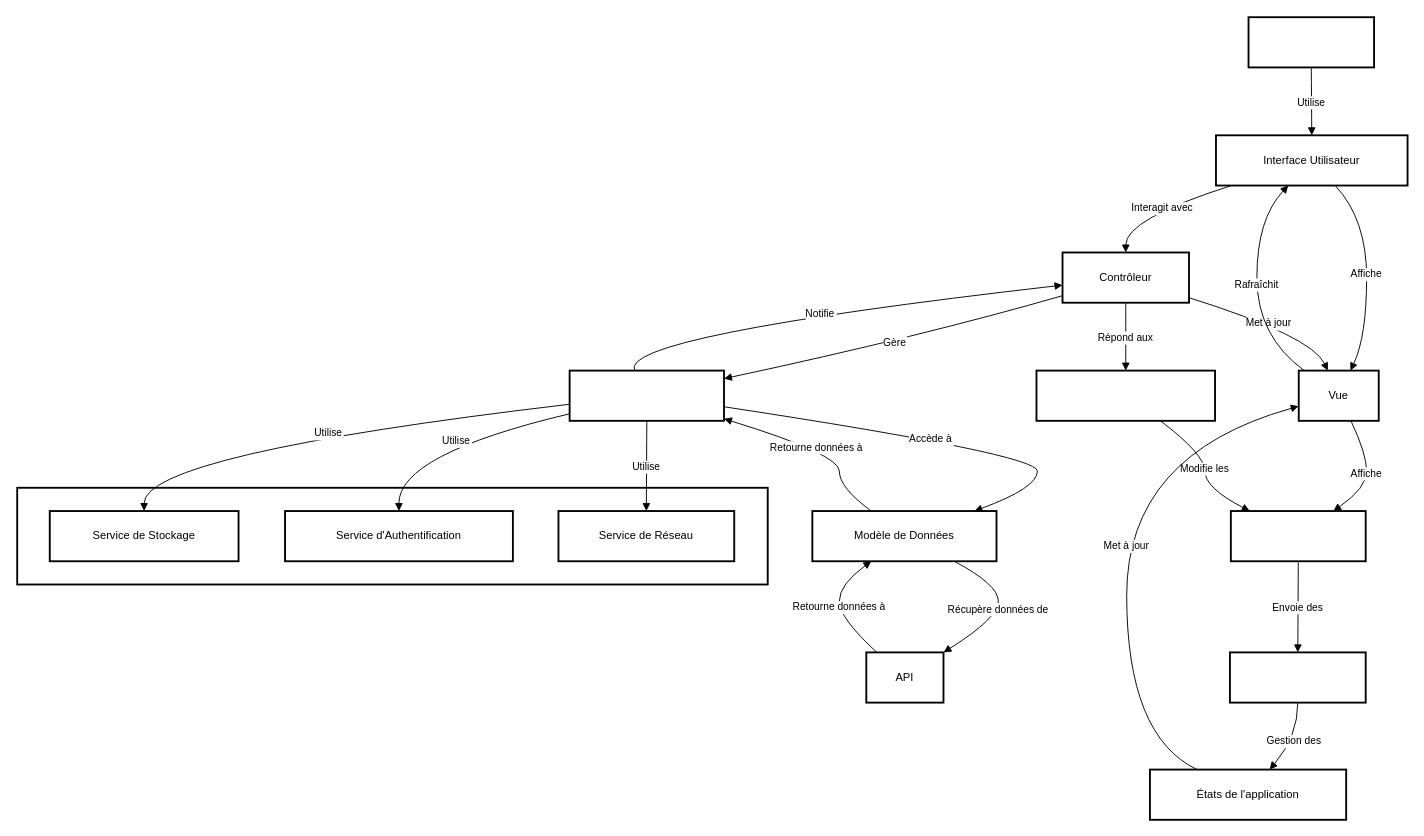
This 1424x836 diagram has some shape labels left out. The shapes that lost their labels are listed below. From the top down, each one's centre as x and y in pixels, then its label:
pixel 1311 42: Utilisateur
pixel 646 395: Logique Métier
pixel 1125 395: Actions Utilisateur
pixel 1297 536: Éléments UI
pixel 1297 677: Événements
